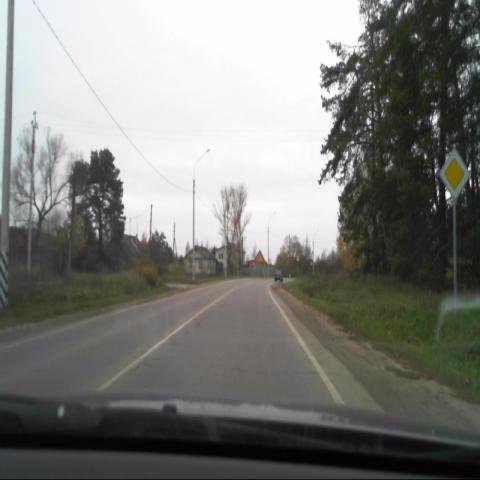2_1: (439, 148, 471, 201)
